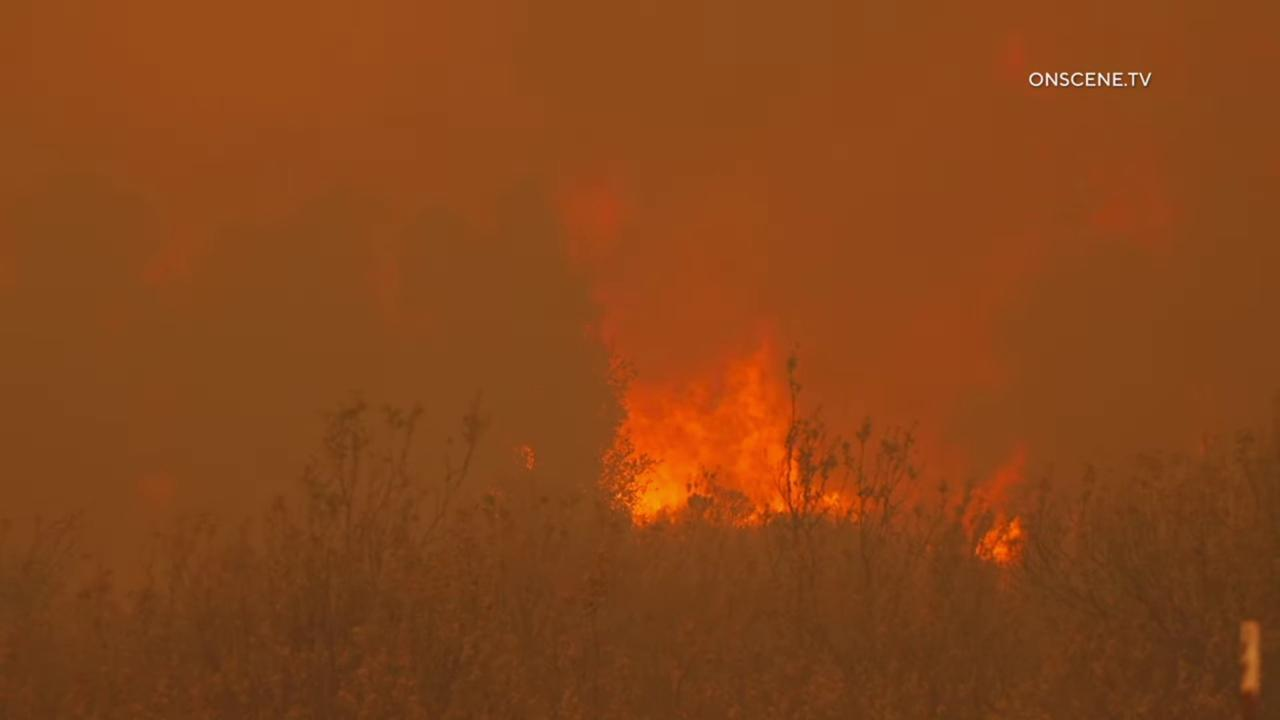fire: (578, 311, 891, 534), (949, 432, 1033, 569), (508, 441, 539, 473)
smoke: (0, 0, 1280, 720)
